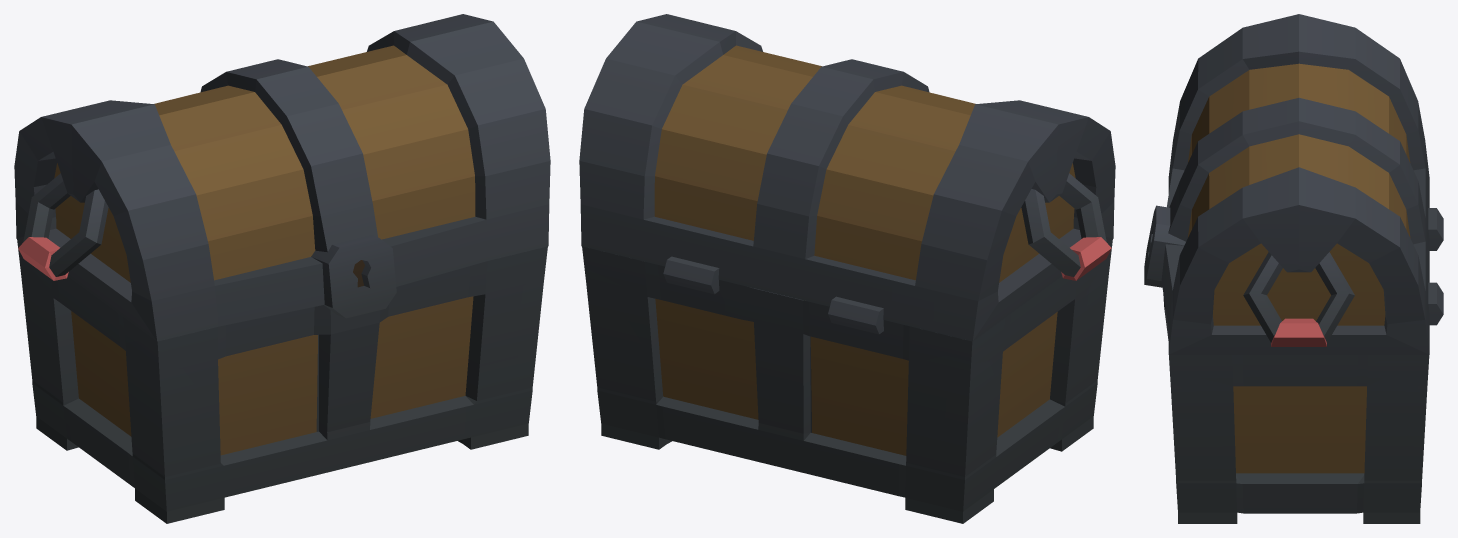
The model's file is Chest_01.fbx.
The picture shows the model from 3 angles, left to right: view 1: azimuth 30°, elevation 25°; view 2: azimuth 150°, elevation 25°; view 3: azimuth 270°, elevation 25°; orthographic projection. The views are drawn at different scales.
Visible parts, largest first — view 1: Chest_01; view 2: Chest_01; view 3: Chest_01.
Part boxes in pixels (x1,y1,x2,y2): Chest_01: [14, 14, 550, 523]; Chest_01: [579, 14, 1115, 523]; Chest_01: [1144, 14, 1443, 523].
Size of the model in its own units: 1.12 by 0.7633 by 0.6224.
